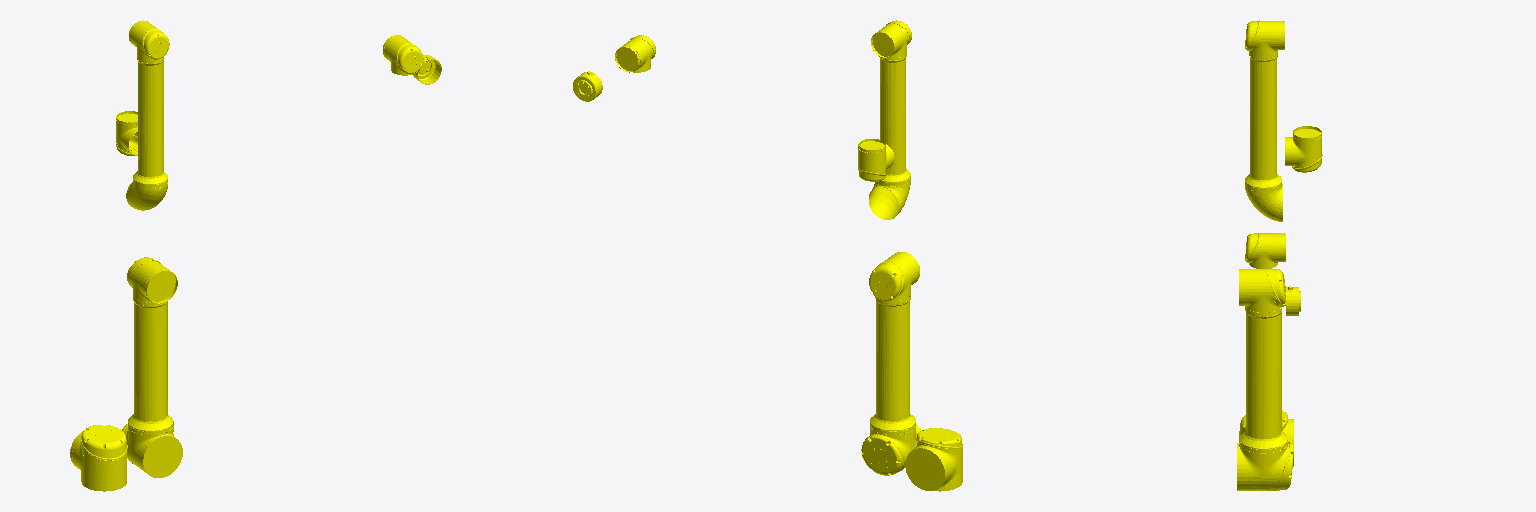
robot.urdf — abb_irb4600_60_205:
<?xml version="1.0" ?>
<!-- =================================================================================== -->
<!-- |    This document was autogenerated by xacro from irb4600_60_205.xacro           | -->
<!-- |    EDITING THIS FILE BY HAND IS NOT RECOMMENDED                                 | -->
<!-- =================================================================================== -->
<robot name="abb_irb4600_60_205" xmlns:xacro="http://ros.org/wiki/xacro">
  <!-- link list -->
  <link name="world"/>
  <link name="base"/>
  <link name="base_link">
    <collision name="collision">
      <geometry>
        <mesh filename="package://abb_irb4600_support/meshes/irb4600_60_205/collision/base_link.stl"/>
      </geometry>
    </collision>
    <visual name="visual">
      <geometry>
        <mesh filename="package://abb_irb4600_support/meshes/irb4600_60_205/visual/base_link.stl"/>
      </geometry>
      <material name="yellow">
        <color rgba="1 1 0 1"/>
      </material>
    </visual>
  </link>
  <link name="link_1">
    <collision name="collision">
      <geometry>
        <mesh filename="package://abb_irb4600_support/meshes/irb4600_60_205/collision/link_1.stl"/>
      </geometry>
    </collision>
    <visual name="visual">
      <geometry>
        <mesh filename="package://abb_irb4600_support/meshes/irb4600_60_205/visual/link_1.stl"/>
      </geometry>
      <material name="yellow"/>
    </visual>
  </link>
  <link name="link_2">
    <collision name="collision">
      <geometry>
        <mesh filename="package://abb_irb4600_support/meshes/irb4600_60_205/collision/link_2.stl"/>
      </geometry>
    </collision>
    <visual name="visual">
      <geometry>
        <mesh filename="package://abb_irb4600_support/meshes/irb4600_60_205/visual/link_2.stl"/>
      </geometry>
      <material name="yellow"/>
    </visual>
  </link>
  <link name="link_3">
    <collision name="collision">
      <geometry>
        <mesh filename="package://abb_irb4600_support/meshes/irb4600_60_205/collision/link_3.stl"/>
      </geometry>
    </collision>
    <visual name="visual">
      <geometry>
        <mesh filename="package://abb_irb4600_support/meshes/irb4600_60_205/visual/link_3.stl"/>
      </geometry>
      <material name="yellow"/>
    </visual>
  </link>
  <link name="link_4">
    <collision name="collision">
      <geometry>
        <mesh filename="package://abb_irb4600_support/meshes/irb4600_60_205/collision/link_4.stl"/>
      </geometry>
    </collision>
    <visual name="visual">
      <geometry>
        <mesh filename="package://abb_irb4600_support/meshes/irb4600_60_205/visual/link_4.stl"/>
      </geometry>
      <material name="yellow"/>
    </visual>
  </link>
  <link name="link_5">
    <collision name="collision">
      <geometry>
        <mesh filename="package://abb_irb4600_support/meshes/irb4600_60_205/collision/link_5.stl"/>
      </geometry>
    </collision>
    <visual name="visual">
      <geometry>
        <mesh filename="package://abb_irb4600_support/meshes/irb4600_60_205/visual/link_5.stl"/>
      </geometry>
      <material name="yellow"/>
    </visual>
  </link>
  <link name="link_6">
    <collision name="collision">
      <geometry>
        <mesh filename="package://abb_irb4600_support/meshes/irb4600_60_205/collision/link_6.stl"/>
      </geometry>
    </collision>
    <visual name="visual">
      <geometry>
        <mesh filename="package://abb_irb4600_support/meshes/irb4600_60_205/visual/link_6.stl"/>
      </geometry>
      <material name="yellow"/>
    </visual>
  </link>
  <link name="tool0"/>
  <!-- end of link list -->
  <!-- joint list -->
  <joint name="world-base" type="fixed">
    <!-- <origin rpy="-0.0052 -0.0084 1.6057" xyz="1.204 -1.1622 -0.1291"/> -->
    <origin rpy="0 0 0" xyz="0 0 0"/>
    <parent link="world"/>
    <child link="base"/>
  </joint>
  <joint name="base_link-base" type="fixed">
    <origin rpy="0 0 0" xyz="0 0 0"/>
    <parent link="base"/>
    <child link="base_link"/>
  </joint>
  <joint name="joint_1" type="revolute">
    <origin rpy="0 0 0" xyz="0 0 0.495"/>
    <axis xyz="0 0 1"/>
    <parent link="base_link"/>
    <child link="link_1"/>
    <limit effort="0" lower="-3.141" upper="3.141" velocity="3.054"/>
  </joint>
  <joint name="joint_2" type="revolute">
    <origin rpy="0 0 0" xyz="0.175 0 0"/>
    <axis xyz="0 1 0"/>
    <parent link="link_1"/>
    <child link="link_2"/>
    <limit effort="0" lower="-1.570" upper="2.617" velocity="3.054"/>
  </joint>
  <joint name="joint_3" type="revolute">
    <origin rpy="0 0 0" xyz="0 0 0.9"/>
    <axis xyz="0 1 0"/>
    <parent link="link_2"/>
    <child link="link_3"/>
    <limit effort="0" lower="-3.141" upper="1.308" velocity="3.054"/>
  </joint>
  <joint name="joint_4" type="revolute">
    <origin rpy="0 0 0" xyz="0 0 0.175"/>
    <axis xyz="1 0 0"/>
    <parent link="link_3"/>
    <child link="link_4"/>
    <limit effort="0" lower="-6.981" upper="6.981" velocity="4.363"/>
  </joint>
  <joint name="joint_5" type="revolute">
    <origin rpy="0 0 0" xyz="0.960 0 0 "/>
    <axis xyz="0 1 0"/>
    <parent link="link_4"/>
    <child link="link_5"/>
    <limit effort="0" lower="-2.181" upper="2.094" velocity="4.363"/>
  </joint>
  <joint name="joint_6" type="revolute">
    <origin rpy="0 0 0" xyz="0.135 0 0 "/>
    <axis xyz="1 0 0"/>
    <parent link="link_5"/>
    <child link="link_6"/>
    <limit effort="0" lower="-6.981" upper="6.981" velocity="6.283"/>
  </joint>
  <joint name="joint_6-tool0" type="fixed">
    <parent link="link_6"/>
    <child link="tool0"/>
    <origin rpy="0 1.57079632679 0" xyz="0 0 0"/>
  </joint>
  <!-- end of joint list -->
  <!-- ROS base_link to ABB World Coordinates transform -->
</robot>

--- Facts derived from the render (not from the file) ---
The picture shows the robot from 3 angles, left to right: view 1: azimuth 30°, elevation 25°; view 2: azimuth 150°, elevation 25°; view 3: azimuth 270°, elevation 25°; orthographic projection.
Robot: abb_irb4600_60_205 — 10 links, 9 joints (6 revolute, 3 fixed); root link world; default pose: all joints at 0.
Links seen in each view (by area): view 1: link_2, link_3, link_1, link_5, link_4, link_6; view 2: link_2, link_3, link_1, link_4, link_5, link_6; view 3: link_2, link_3, link_4, link_5.
Link boxes in pixels (box(x1,y1,x2,y2)): link_2: box(122, 257, 182, 477); link_3: box(126, 20, 169, 210); link_1: box(70, 425, 127, 491); link_5: box(383, 35, 423, 75); link_4: box(116, 111, 137, 155); link_6: box(413, 55, 441, 84); link_2: box(861, 252, 921, 475); link_3: box(869, 20, 911, 219); link_1: box(905, 428, 962, 491); link_4: box(858, 139, 894, 181); link_5: box(615, 35, 655, 72); link_6: box(573, 71, 602, 101); link_2: box(1237, 269, 1293, 490); link_3: box(1245, 20, 1284, 221); link_4: box(1285, 126, 1322, 172); link_5: box(1245, 233, 1285, 268).
Size in the robot's own frame: 1.39 by 0.2636 by 1.6 metres.
Meshes: 7 distinct files referenced, 6 mesh visuals loaded (6 binary STL); not drawn: 1 (reference not matched to a file when rendering).